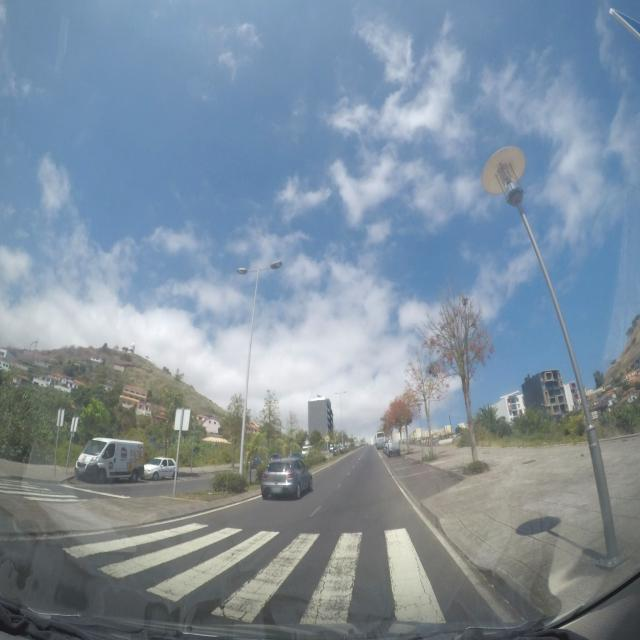car: (74, 436, 146, 485), (260, 457, 313, 501), (143, 456, 178, 482), (387, 441, 401, 457)
